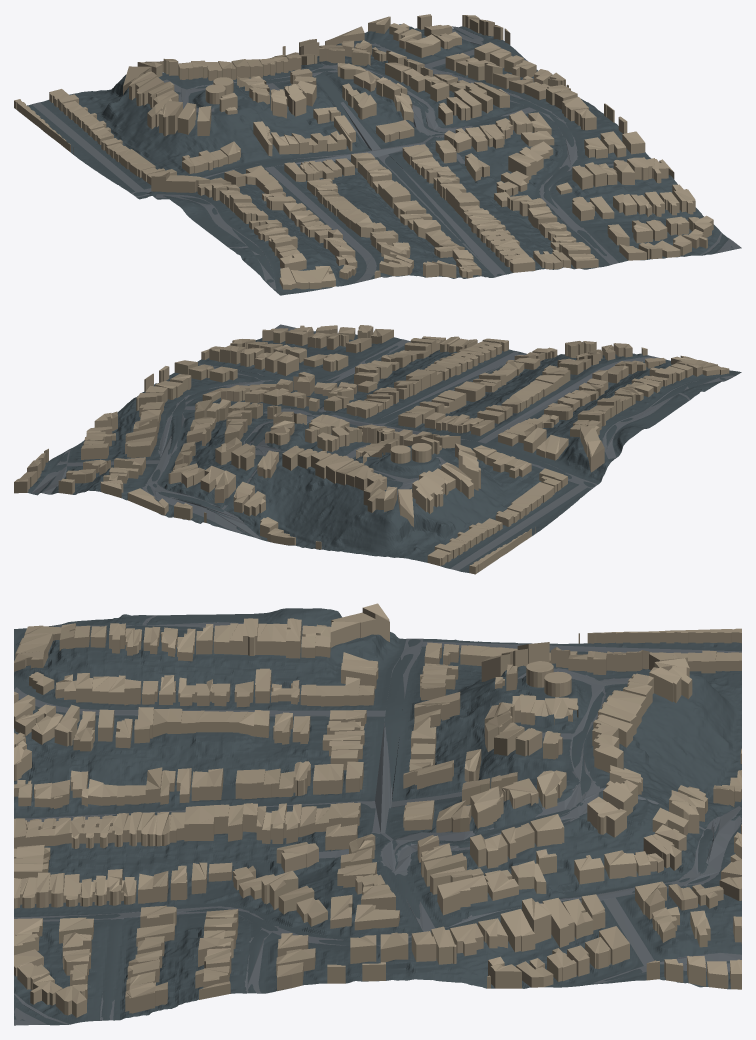
Rendered from epsg26910-1424-10880.lod0.glb.
3 renders of one model, top to bottom at view 1: azimuth 30°, elevation 25°; view 2: azimuth 150°, elevation 25°; view 3: azimuth 270°, elevation 25°, orthographic. The views are drawn at different scales.
Visible parts, largest first — view 1: epsg26910-1424-10880-lod0; view 2: epsg26910-1424-10880-lod0; view 3: epsg26910-1424-10880-lod0.
Boxes of the visible parts, left/top/right/bottom form: epsg26910-1424-10880-lod0: left=14, top=14, right=741, bottom=295; epsg26910-1424-10880-lod0: left=14, top=324, right=741, bottom=574; epsg26910-1424-10880-lod0: left=14, top=603, right=741, bottom=1025.
Size of the model in its own units: 384 by 79.63 by 384.
